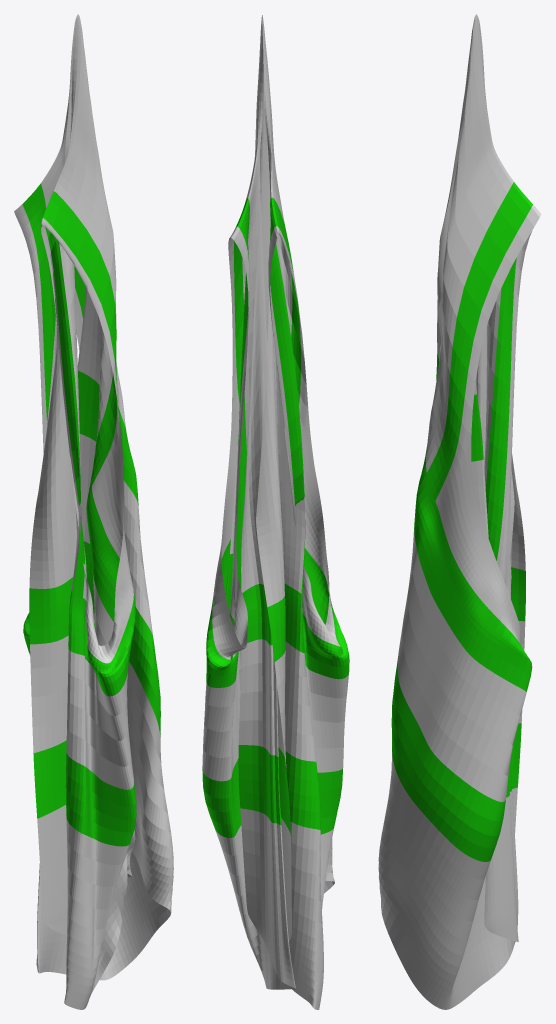
File: Vest.fbx
3 renders of one model, left to right at view 1: azimuth 90°, elevation 25°; view 2: azimuth 150°, elevation 25°; view 3: azimuth 270°, elevation 25°, orthographic. The views are drawn at different scales.
Visible parts, largest first — view 1: Cube.001; view 2: Cube.001; view 3: Cube.001.
Boxes of the visible parts, left/top/right/bottom form: Cube.001: left=14, top=14, right=173, bottom=1009; Cube.001: left=202, top=15, right=349, bottom=1009; Cube.001: left=378, top=14, right=541, bottom=1009.
Bounding box in the file's own units: 9.95 × 75.72 × 11.3.
